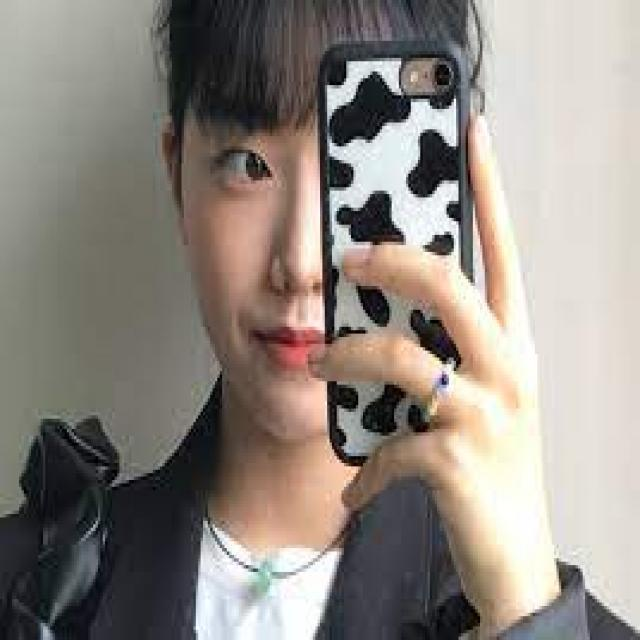Phone: (316, 42, 476, 466)
